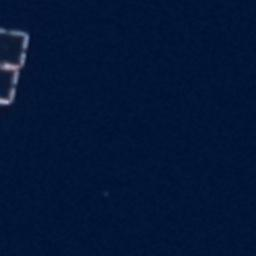square_solid: (1, 24, 33, 74), (1, 61, 22, 110)
